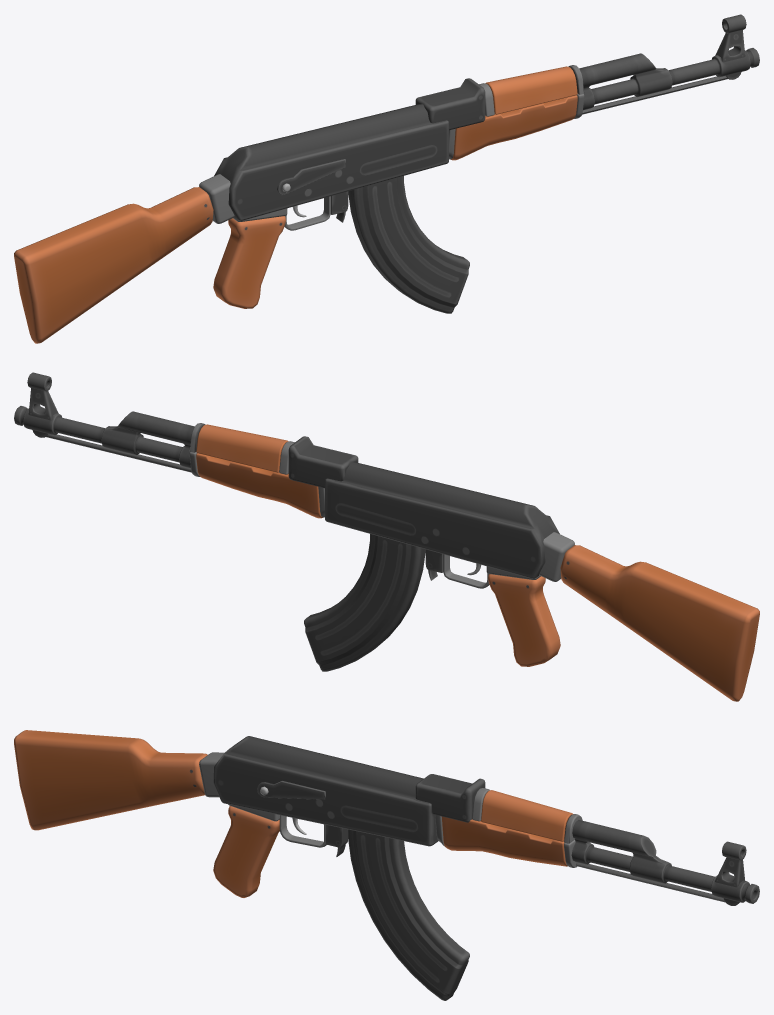
File: weapon-ak47.glb
The picture shows the model from 3 angles, top to bottom: view 1: azimuth 30°, elevation 25°; view 2: azimuth 150°, elevation 25°; view 3: azimuth 330°, elevation 25°; orthographic projection.
Parts seen in each view (by area): view 1: weapon-ak47; view 2: weapon-ak47; view 3: weapon-ak47.
Boxes of the visible parts, <box> form: weapon-ak47: <box>14,14,759,343</box>; weapon-ak47: <box>14,372,759,701</box>; weapon-ak47: <box>14,730,759,1000</box>.
Size of the model in its own units: 1.69 by 0.4926 by 0.0874.
Materials: 1 (1 with a texture image).
